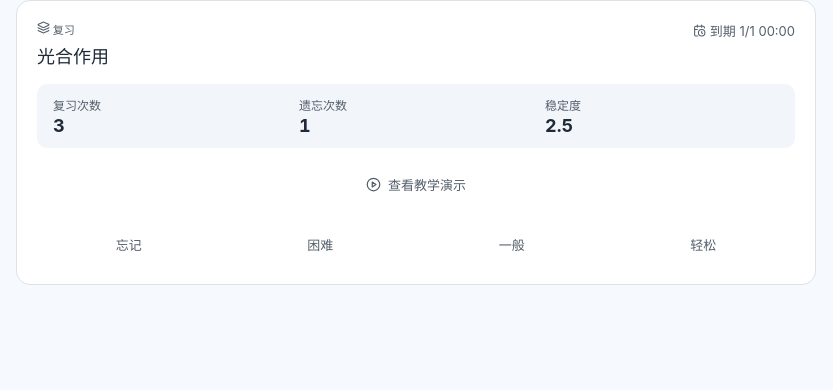
Test: TodayReviewList KP demonstration toggle › fetches KP demonstrations and mounts the player on toggle
Expected: the heading "光合作用" is shown, x1=37 y1=42 x2=109 y2=68
Click the button "查看教学演示" at (416, 184), box x1=37 y1=164 x2=795 y2=204
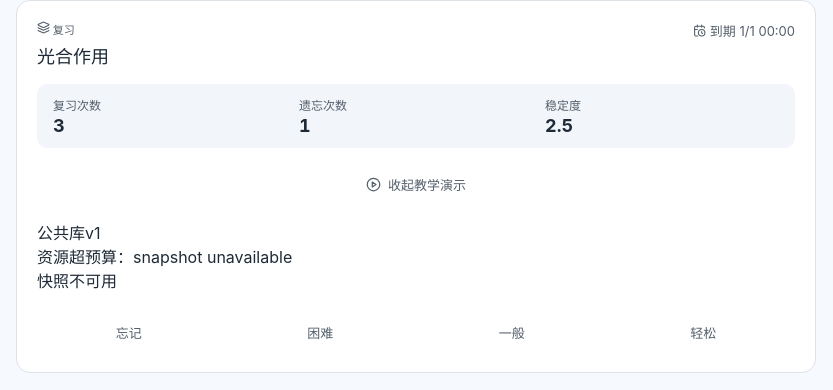
Expected: the element named "知识点教学演示" is shown, x1=37 y1=223 x2=292 y2=291
